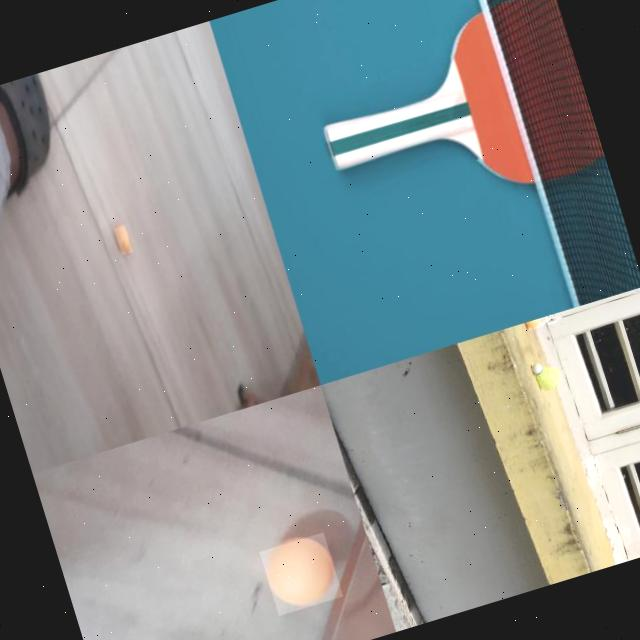ping-pong-ball: (258, 530, 342, 615), (112, 222, 132, 253), (526, 317, 542, 328)
